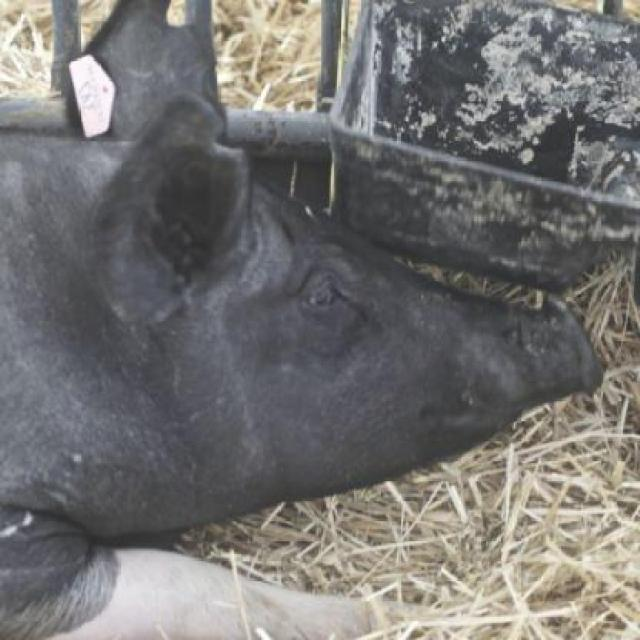Boar: (1, 0, 605, 640)
